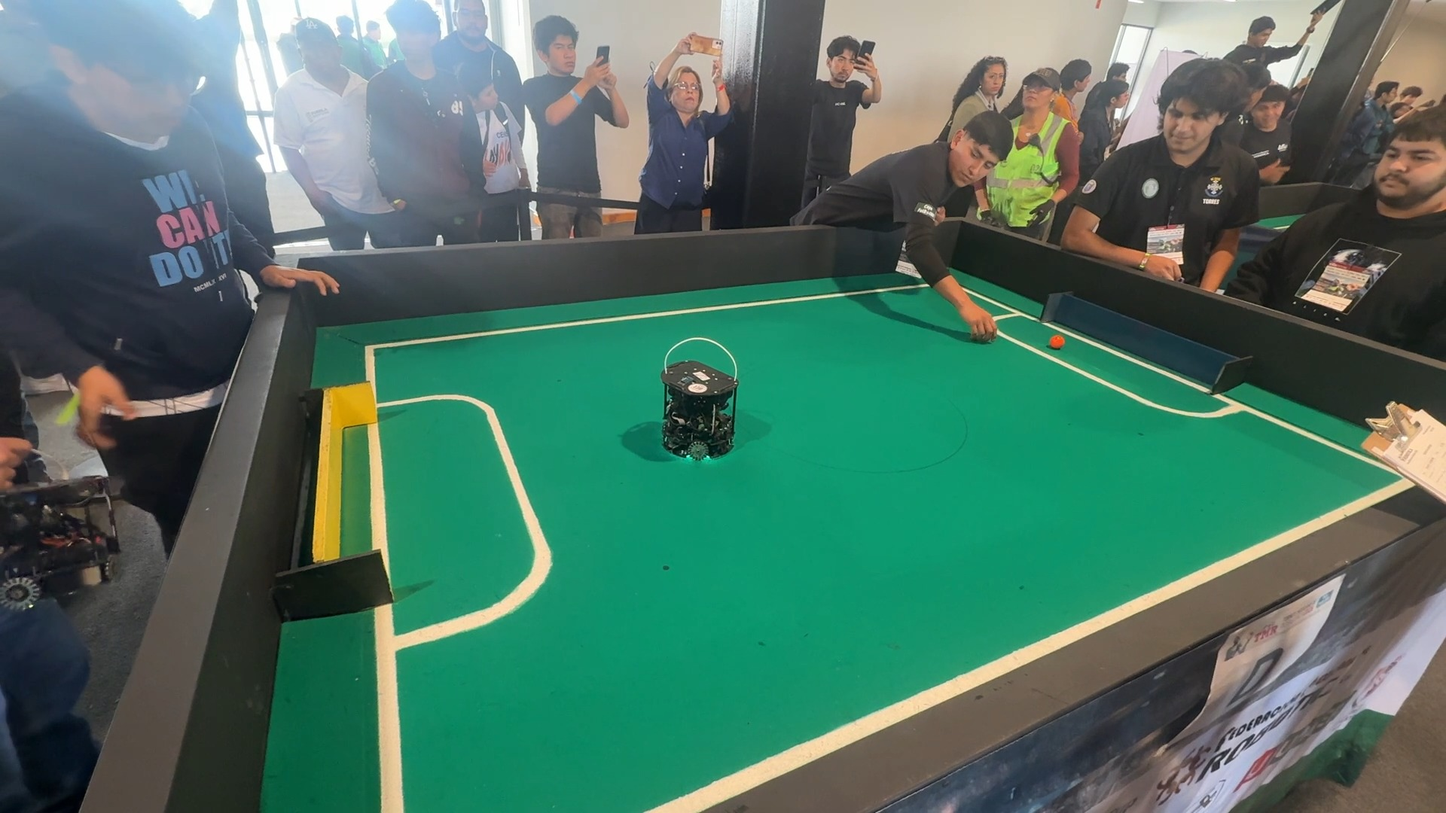Robot: (634, 336, 780, 477), (0, 544, 45, 625)
pelota: (1048, 327, 1069, 355)
